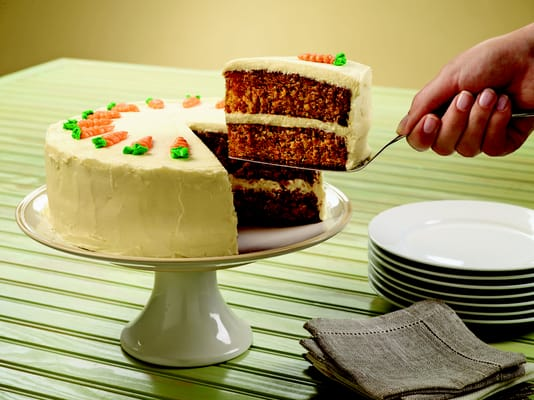curry: (2, 35, 533, 397)
sushi: (43, 97, 239, 260), (220, 51, 374, 170), (228, 162, 323, 227)
